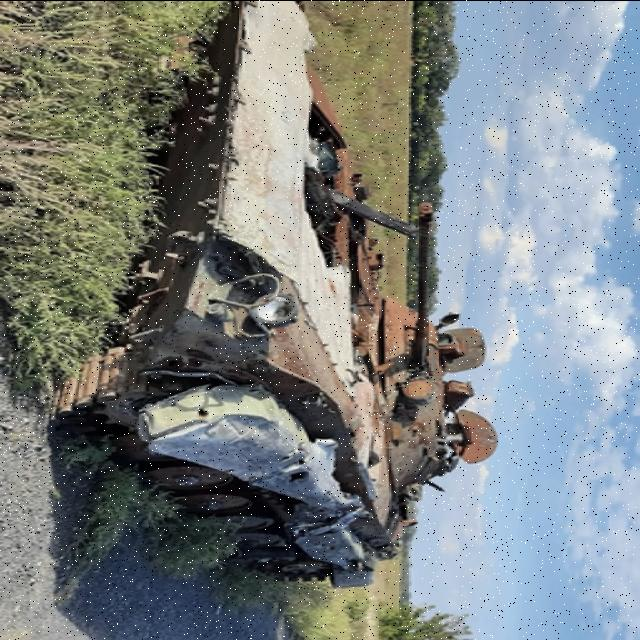APC-IFV: (76, 1, 502, 585)
